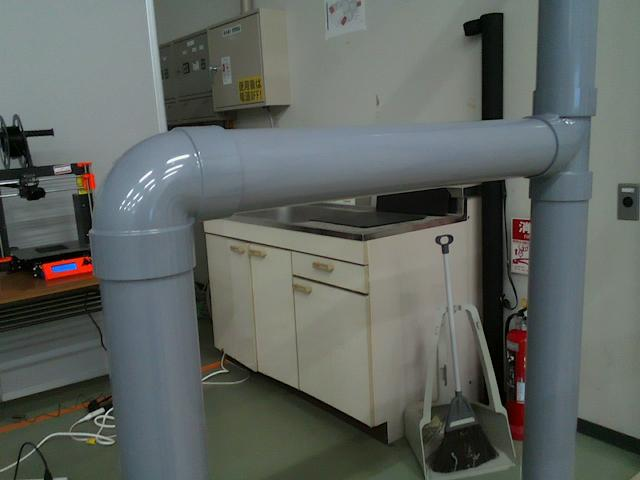bent: (88, 125, 243, 284)
junction: (521, 88, 601, 203)
